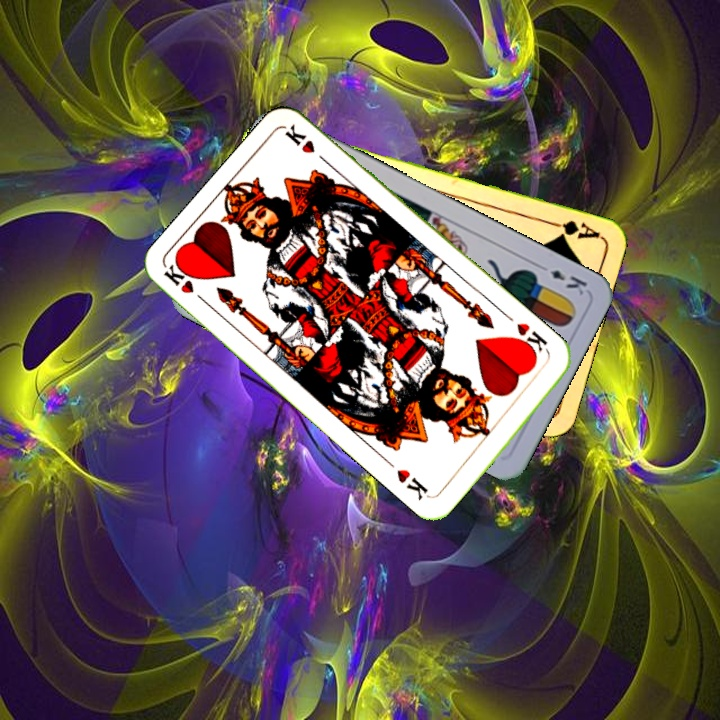EK: (534, 260, 590, 298)
GA: (544, 216, 603, 242)
HK: (160, 258, 212, 308), (509, 318, 553, 361)
